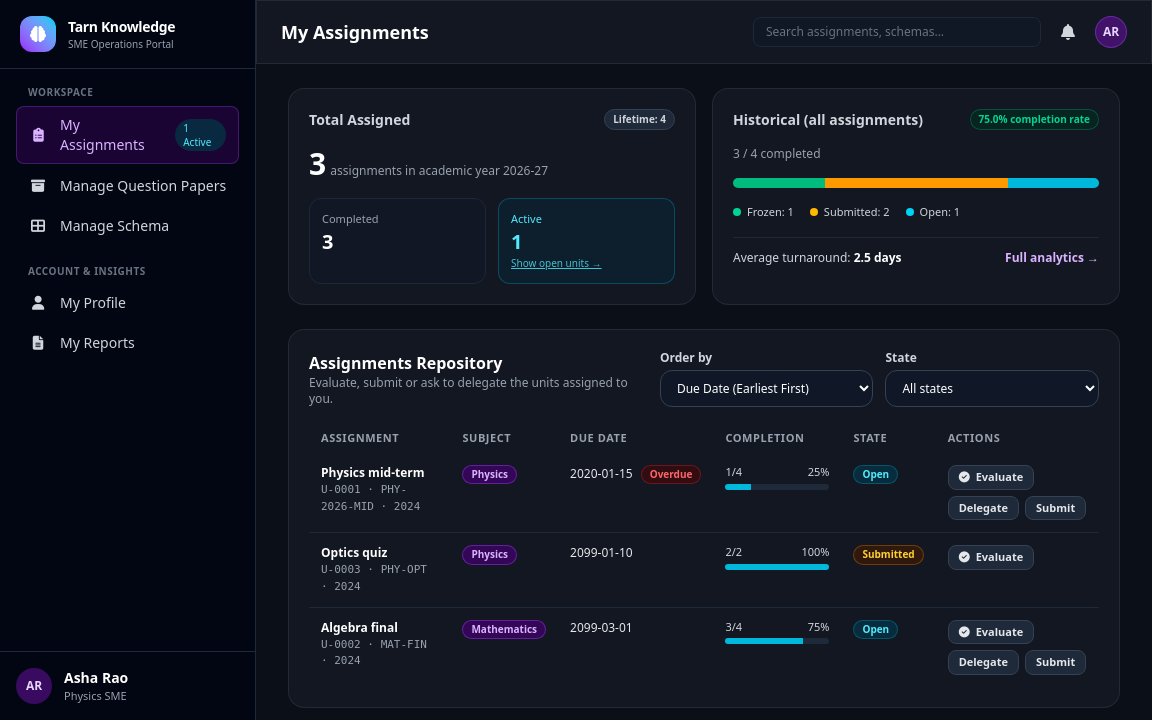
Test case: My Assignments (P31, D216) › opens the submit dialog with the unit’s booklets
The width and height of the screenshot is (1152, 720).
Click the button with aria-label "Submit U-0002" at (1056,663), box [1025, 650, 1086, 675]
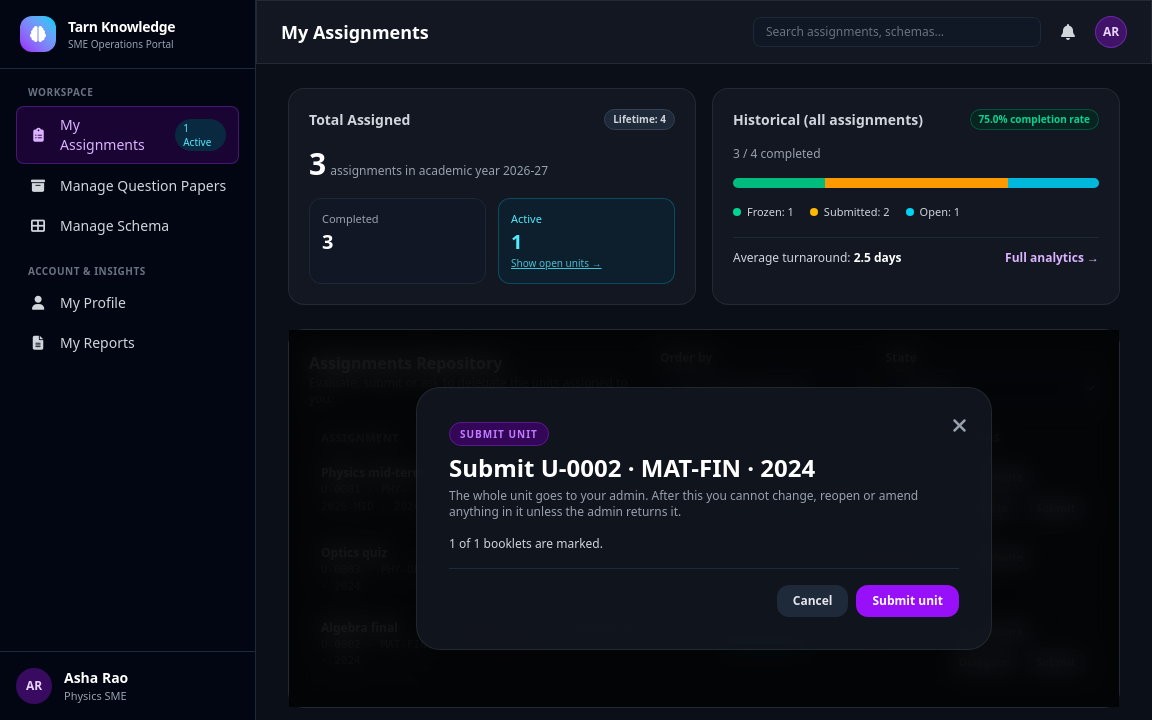
expect the text "1 of 1 booklets are marked." is shown: met, box [449, 536, 603, 552]
